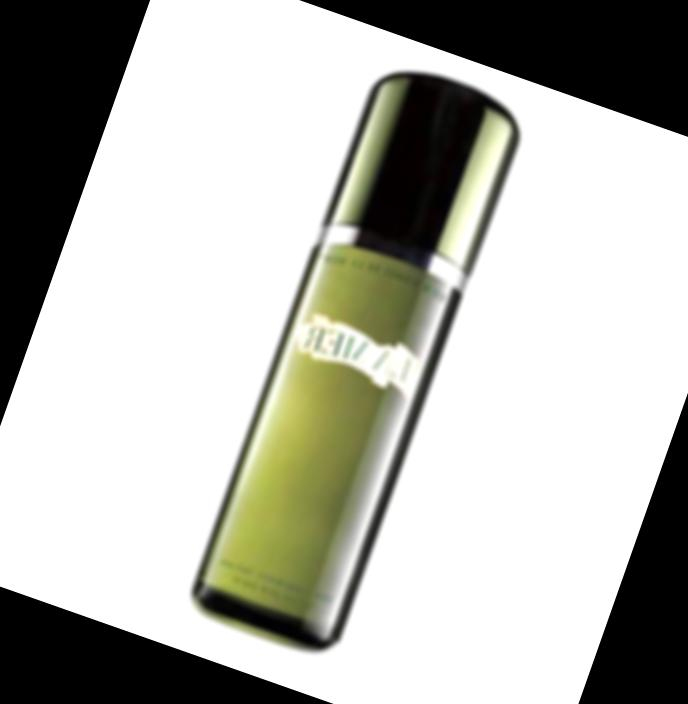cosmetic: (178, 59, 526, 659)
